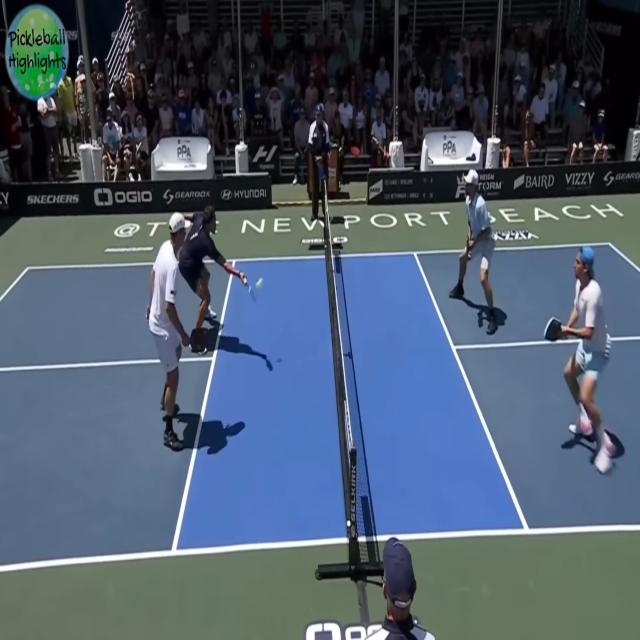ball: (254, 274, 263, 292)
